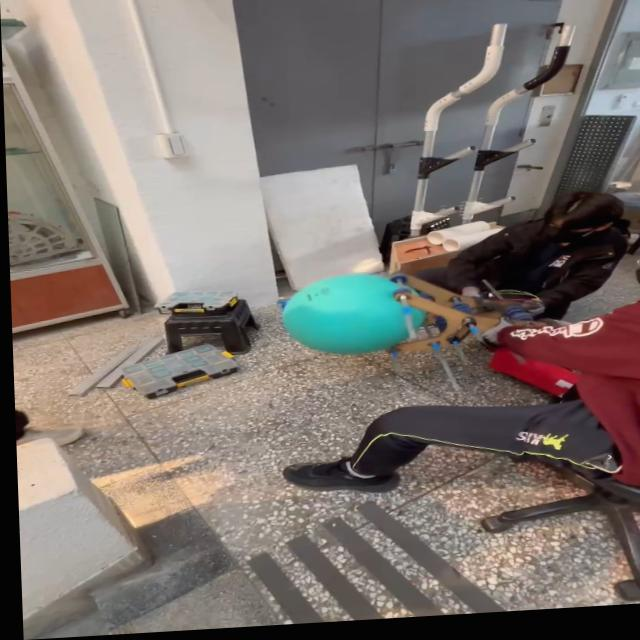ALGAE: (278, 269, 427, 359)
